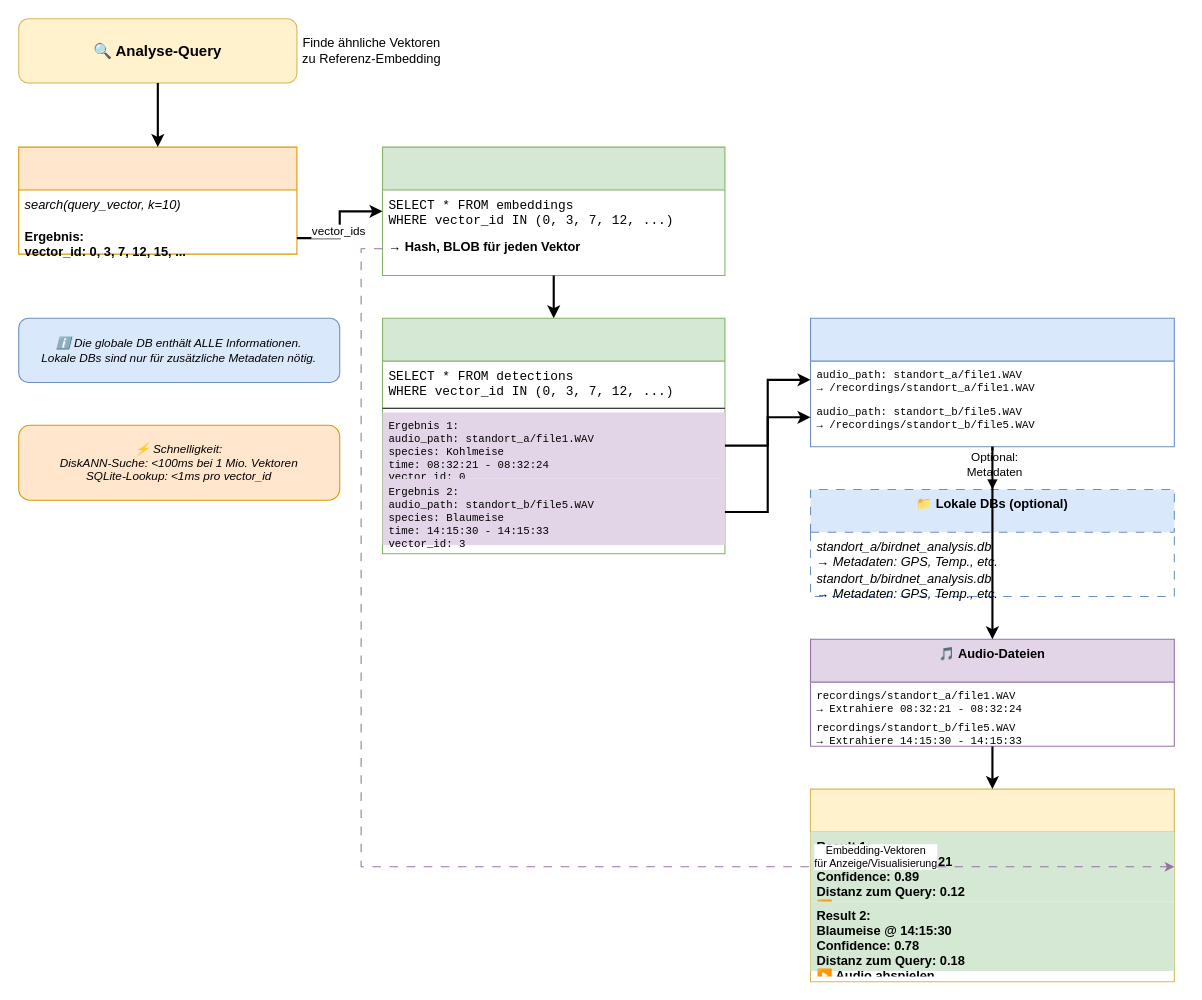
The diagram is 1202 pixels wide and 1000 high, and some of its shapes have lost their labels. The box of each missing label's shape, as (x1, y1, x2, y2) in pixels:
Schritt 1: Embeddings laden: (381, 146, 725, 276)
Schritt 2: Detections finden: (381, 317, 725, 554)
✨ Ergebnis für Nutzer: (809, 788, 1174, 982)
💾 DiskANN: Nearest Neighbor: (18, 146, 297, 254)
🔗 Pfad-Auflösung: (809, 317, 1174, 447)
